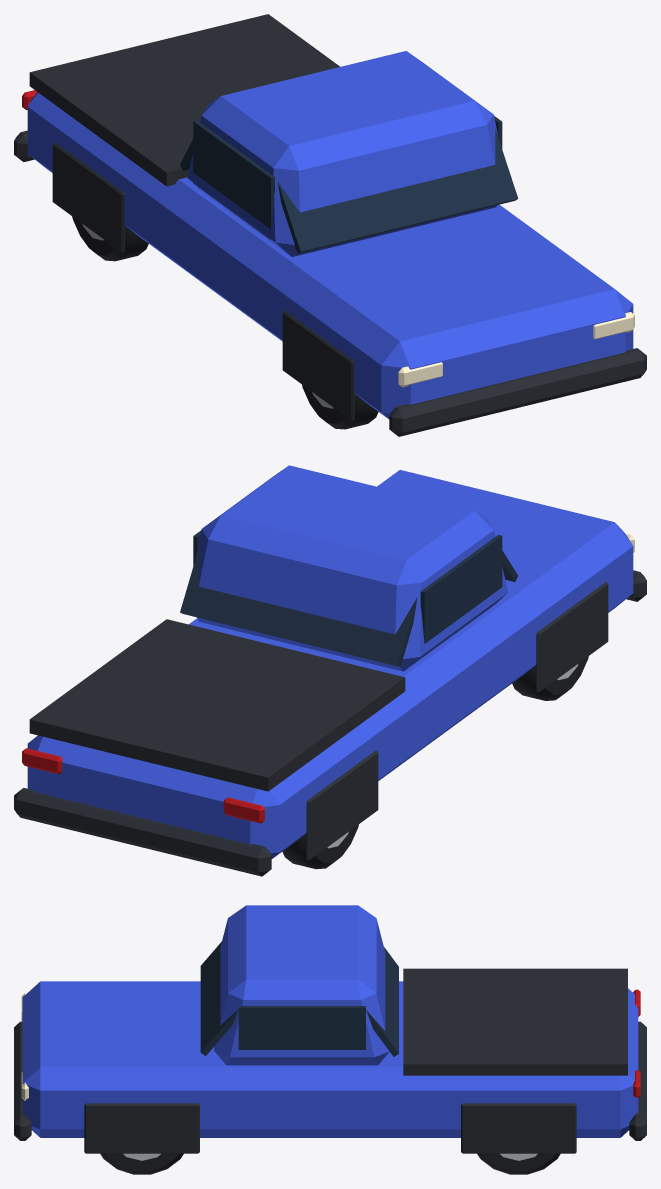
The model's file is car_pickup.glb.
3 renders of one model, top to bottom at view 1: azimuth 30°, elevation 25°; view 2: azimuth 150°, elevation 25°; view 3: azimuth 270°, elevation 25°, orthographic. The views are drawn at different scales.
Visible parts, largest first — view 1: body, wheel_RR, wheel_FR; view 2: body, wheel_FR, wheel_RR; view 3: body, wheel_FL, wheel_RL.
Part boxes in pixels (x1,y1,x2,y2): body: (14, 14, 646, 436); wheel_RR: (72, 216, 148, 261); wheel_FR: (302, 385, 378, 429); body: (14, 465, 646, 876); wheel_FR: (512, 656, 588, 700); wheel_RR: (282, 824, 358, 869); body: (14, 905, 646, 1153); wheel_FL: (100, 1153, 183, 1174); wheel_RL: (477, 1153, 560, 1174).
Bounding box in the file's own units: 1.94 × 1.63 × 5.04.
